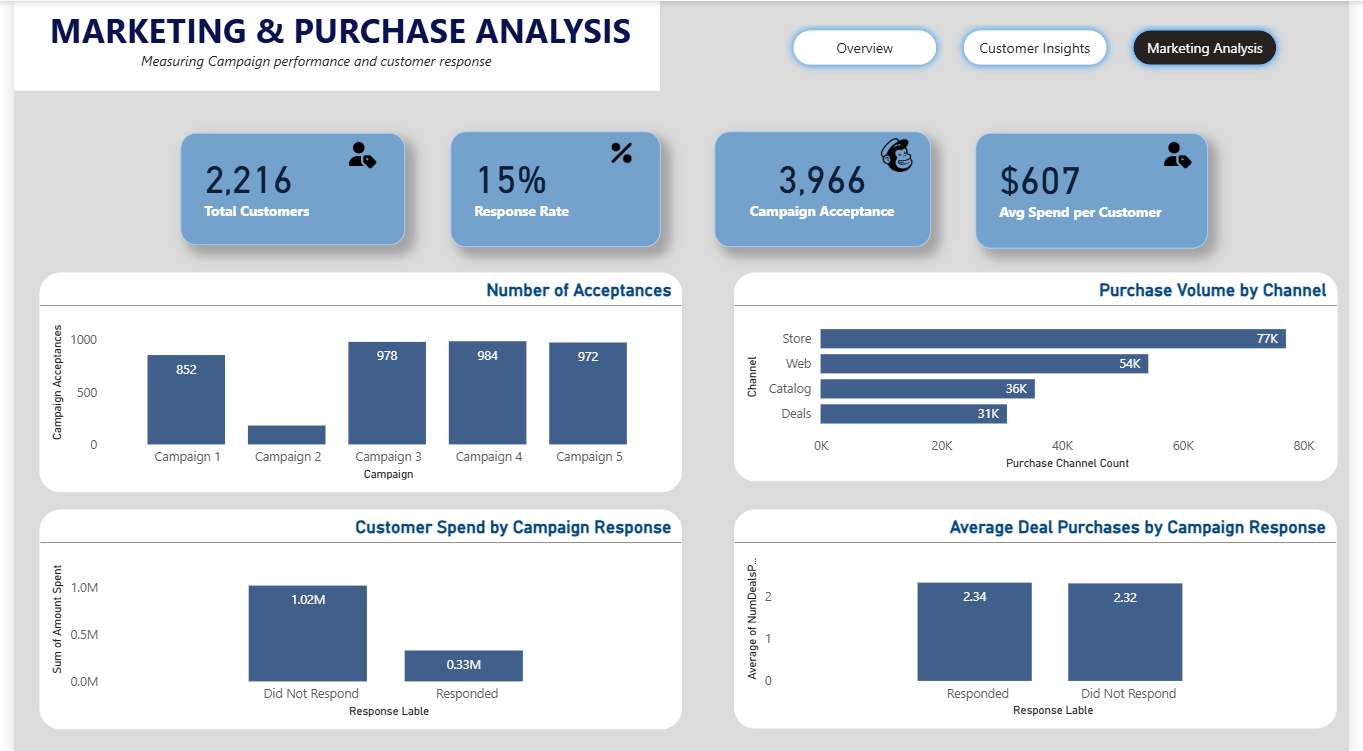

Layout of this report page (visuals, bound fields, positions):
{"tool":"powerbi","page":{"name":"Marketing Analysis","canvas":[1280,720],"ordinal":2},"visuals":[{"type":"pageNavigator","box":[738.9,19.7,481.5,50],"z":0},{"type":"textbox","box":[0,0,619.3,86.3],"z":1000},{"type":"cardVisual","fields":{"Data":["Measures (2).Total Customers"]},"box":[159,127.2,215,107.5],"z":2000},{"type":"cardVisual","fields":{"Data":["Measures (2).Response Rate"]},"box":[417.9,125.7,201.4,110.5],"z":3000},{"type":"cardVisual","fields":{"Data":["Measures (2).Average Spend per Customer"]},"box":[922.2,127.2,222.6,110.5],"z":4000},{"type":"cardVisual","fields":{"Data":["Measures (2).Accept Campaigns"]},"box":[672.3,125.7,207.4,110.5],"z":5000},{"type":"clusteredColumnChart","title":"Number of Acceptances ","fields":{"Y":["Campaign_Summary.Campaing Acceptances"],"Category":["Campaign_Summary.Campaign"]},"box":[24.2,260.4,616.3,210.5],"z":6000},{"type":"clusteredBarChart","title":"Purchase Volume by Channel","fields":{"Y":["Campaign_Summary.Purchase Channel Count"],"Category":["Purchase_Channel.Channel"]},"box":[690.5,260.4,578.4,199.9],"z":7000},{"type":"clusteredColumnChart","title":"Customer Spend by Campaign Response ","fields":{"Y":["Sum(marketing_data.Amount Spent)"],"Category":["marketing_data.Response Lable"]},"box":[24.2,487.6,616.3,210.5],"z":8000},{"type":"image","box":[313.4,127.2,39.4,39.4],"z":9000},{"type":"image","box":[560.3,127.2,43.9,37.9],"z":10000},{"type":"image","box":[1085.7,127.2,59.1,39.4],"z":11000},{"type":"image","box":[814.6,119.6,65.1,56],"z":12000},{"type":"columnChart","title":"Average Deal Purchases by Campaign Response","fields":{"Category":["marketing_data.Response Lable"],"Y":["Avg(marketing_data.NumDealsPurchases)"]},"box":[690,488,578,210],"z":13000}]}

Visuals, with their boxes in screenshot pixels (x1, y1, x2, y2), scaled from the page's 1280x720 canvas onto the 1363x751 screenshot:
pageNavigator: rect(787, 21, 1300, 73)
textbox: rect(0, 0, 659, 90)
cardVisual - Measures (2).Total Customers: rect(169, 133, 398, 245)
cardVisual - Measures (2).Response Rate: rect(445, 131, 659, 246)
cardVisual - Measures (2).Average Spend per Customer: rect(982, 133, 1219, 248)
cardVisual - Measures (2).Accept Campaigns: rect(716, 131, 937, 246)
"Number of Acceptances " clusteredColumnChart: rect(26, 272, 682, 491)
"Purchase Volume by Channel" clusteredBarChart: rect(735, 272, 1351, 480)
"Customer Spend by Campaign Response " clusteredColumnChart: rect(26, 509, 682, 728)
image: rect(334, 133, 376, 174)
image: rect(597, 133, 643, 172)
image: rect(1156, 133, 1219, 174)
image: rect(867, 125, 937, 183)
"Average Deal Purchases by Campaign Response" columnChart: rect(735, 509, 1350, 728)
